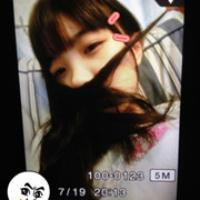face: (42, 8, 138, 116)
